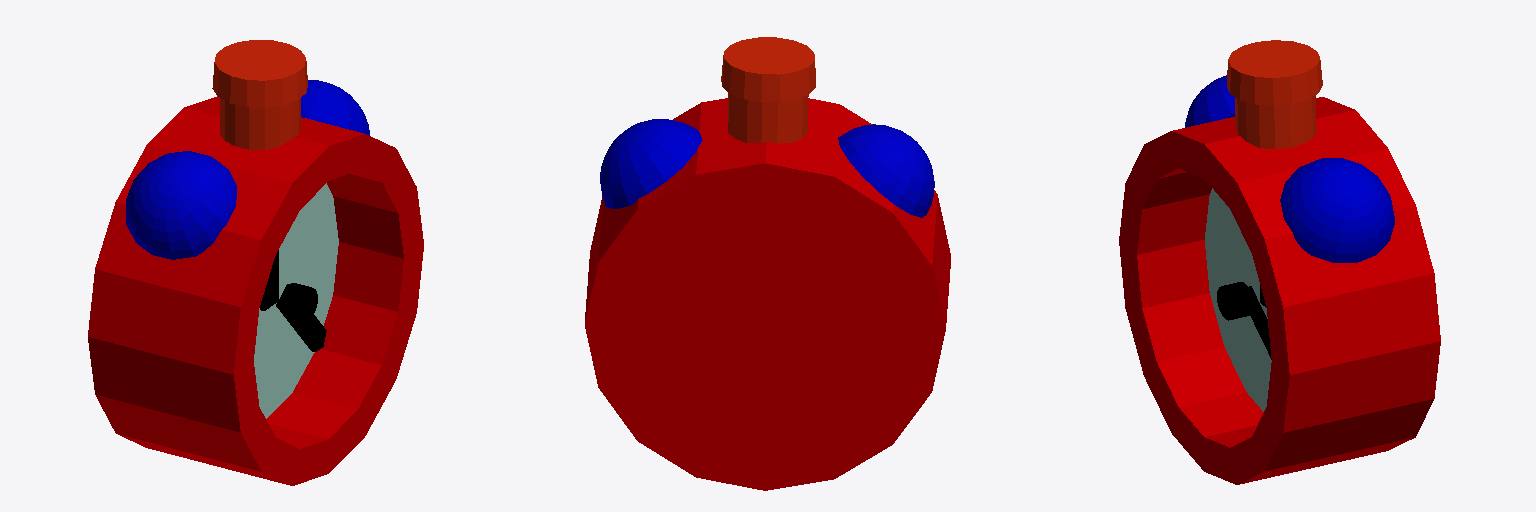
Rendered from alarm.obj.
3 views of the same model, side by side, from view 1: azimuth 30°, elevation 25°; view 2: azimuth 150°, elevation 25°; view 3: azimuth 270°, elevation 25° (orthographic).
Parts seen in each view (by area): view 1: Cube.001; view 2: Cube.001; view 3: Cube.001.
Boxes of the visible parts, box(x1,y1,x2,y2) form: Cube.001: box(88, 40, 423, 485); Cube.001: box(585, 37, 950, 490); Cube.001: box(1119, 40, 1440, 484).
Size of the model in its own units: 0.359 by 0.3938 by 0.2892.